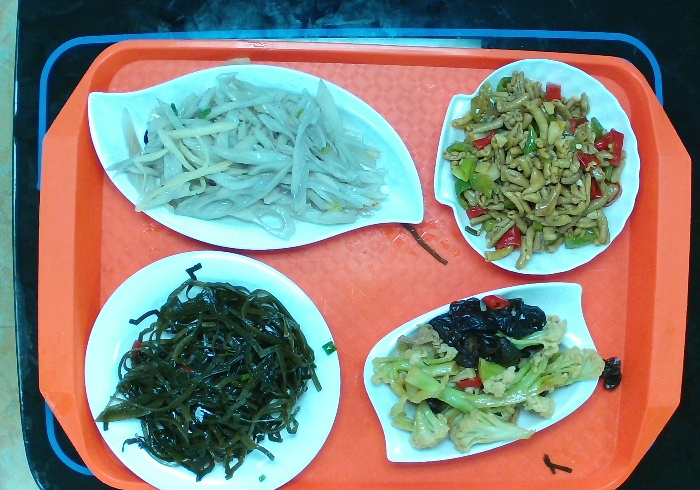RJxy-Bei_Ke_Wan: (426, 54, 645, 280)
RJxy-Jian_Jiao_Fang_Die: (364, 278, 609, 467)
RJxy-Jian_Jiao_Pan: (80, 58, 429, 254)
RJxy-Yuan_Pan: (80, 249, 342, 490)
